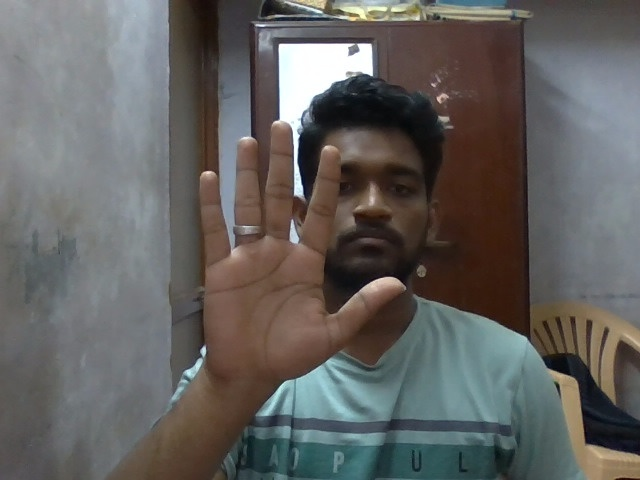Hello: (183, 115, 406, 401)
